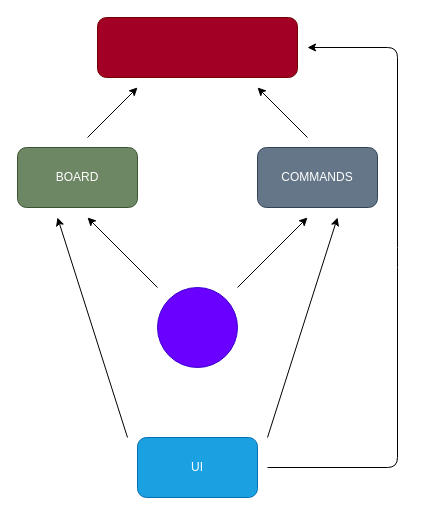
Some shapes in this 423 by 515 pixel diagram are drawn without their labels. The shapes that lost their labels are listed below. From the top down, each one's centre as x and y in pixels, then its label:
point 197,47: APP
point 197,327: STORE
